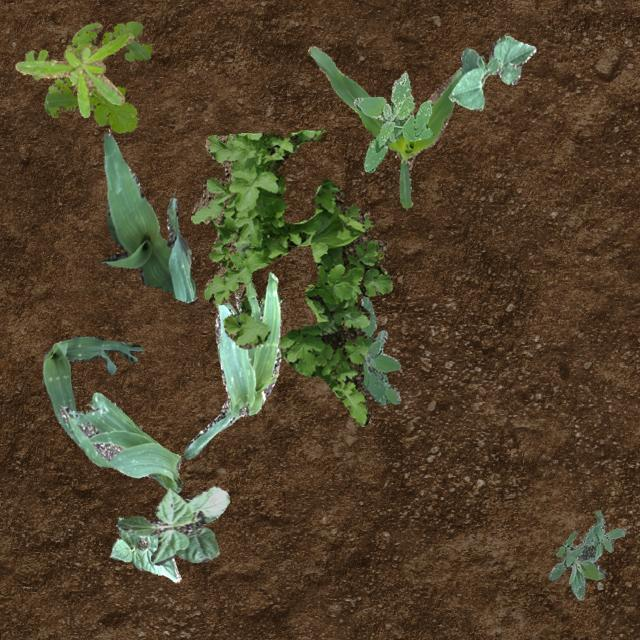crop: (307, 45, 461, 208), (182, 272, 280, 458), (98, 132, 196, 304), (58, 392, 182, 492), (41, 334, 140, 444), (114, 486, 228, 564), (448, 34, 534, 110), (110, 529, 180, 581)
weed: (190, 128, 392, 426), (24, 20, 150, 132), (13, 32, 132, 116), (352, 72, 432, 172), (548, 508, 624, 598), (360, 296, 400, 404)
